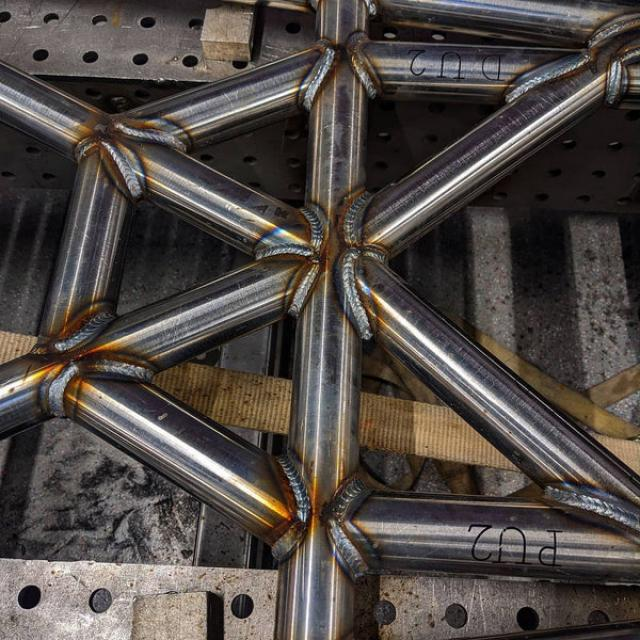Good Weld: (264, 188, 392, 338), (273, 453, 378, 577), (38, 318, 154, 414), (78, 116, 186, 195), (508, 47, 637, 112), (302, 37, 381, 109), (534, 480, 639, 521)
